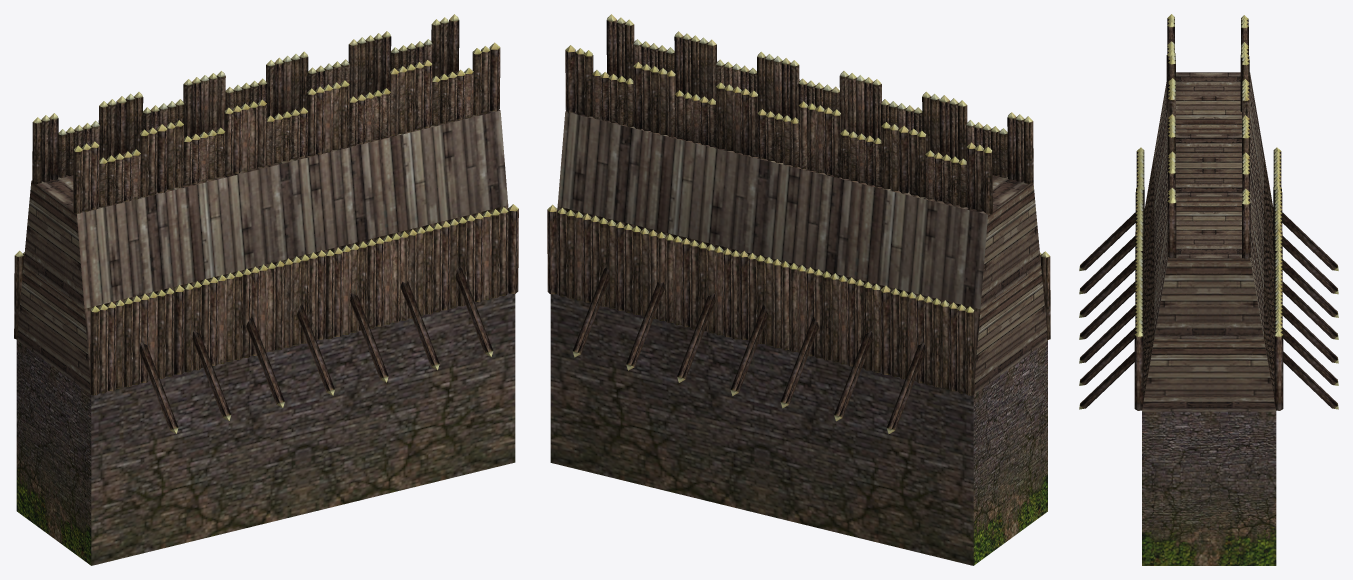
Rendered from s_germans_wooden_wall_medium.glb.
3 renders of one model, left to right at view 1: azimuth 30°, elevation 25°; view 2: azimuth 150°, elevation 25°; view 3: azimuth 270°, elevation 25°, orthographic. The views are drawn at different scales.
Visible parts, largest first — view 1: s_germans_wooden_wall_medium_part0; view 2: s_germans_wooden_wall_medium_part0; view 3: s_germans_wooden_wall_medium_part0.
Part boxes in pixels (box(x1,y1,x2,y2)): s_germans_wooden_wall_medium_part0: box(14, 14, 518, 565); s_germans_wooden_wall_medium_part0: box(547, 14, 1050, 565); s_germans_wooden_wall_medium_part0: box(1079, 14, 1338, 565).
Size of the model in its own units: 6.08 by 5.56 by 3.56.
1 material, 1 textured.
